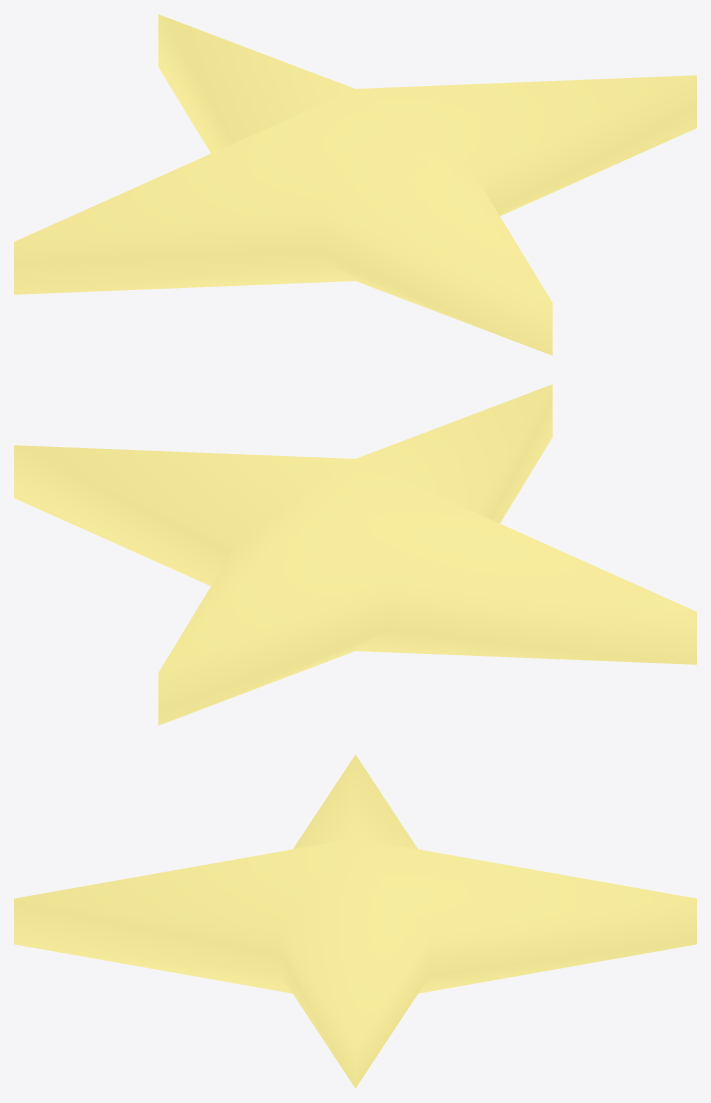
Rendered from star.glb.
The picture shows the model from 3 angles, top to bottom: view 1: azimuth 30°, elevation 25°; view 2: azimuth 150°, elevation 25°; view 3: azimuth 270°, elevation 25°; orthographic projection. The views are drawn at different scales.
Visible parts, largest first — view 1: Star; view 2: Star; view 3: Star.
Part boxes in pixels (x1=…): Star: x1=14, y1=14, x2=696, y2=355; Star: x1=14, y1=384, x2=696, y2=725; Star: x1=14, y1=754, x2=696, y2=1088.
Size of the model in its own units: 2 by 0.5378 by 2.
